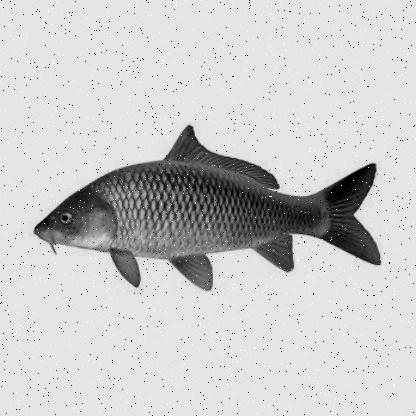ikan-mas: (34, 130, 380, 268)
